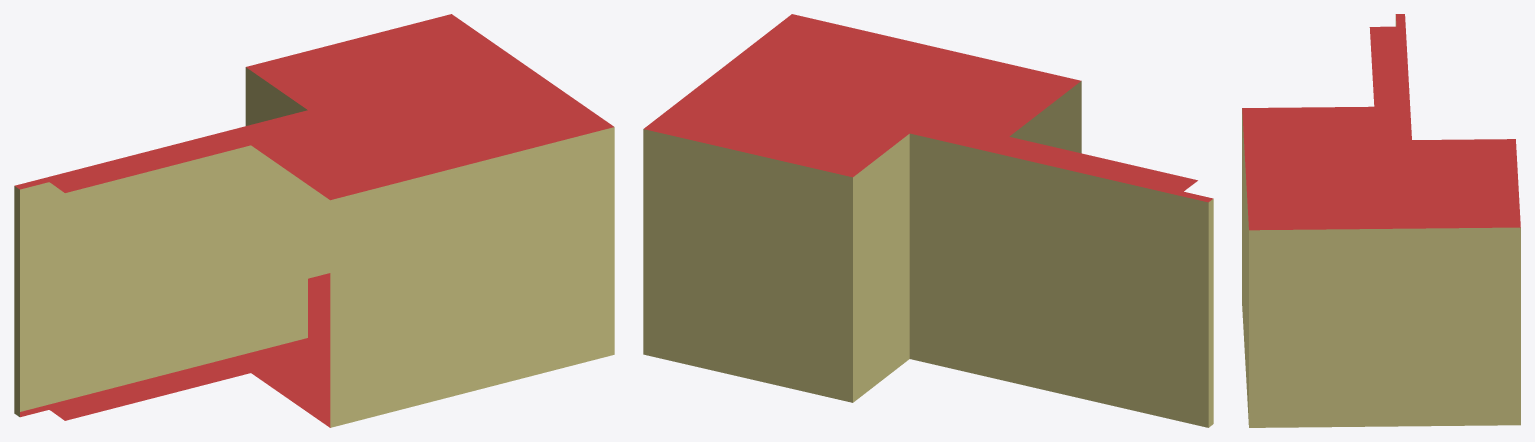
3 renders of one model, left to right at view 1: azimuth 30°, elevation 25°; view 2: azimuth 150°, elevation 25°; view 3: azimuth 270°, elevation 25°, orthographic. The views are drawn at different scales.
Size of the model in its own units: 13.19 by 7.19 by 5.62.
